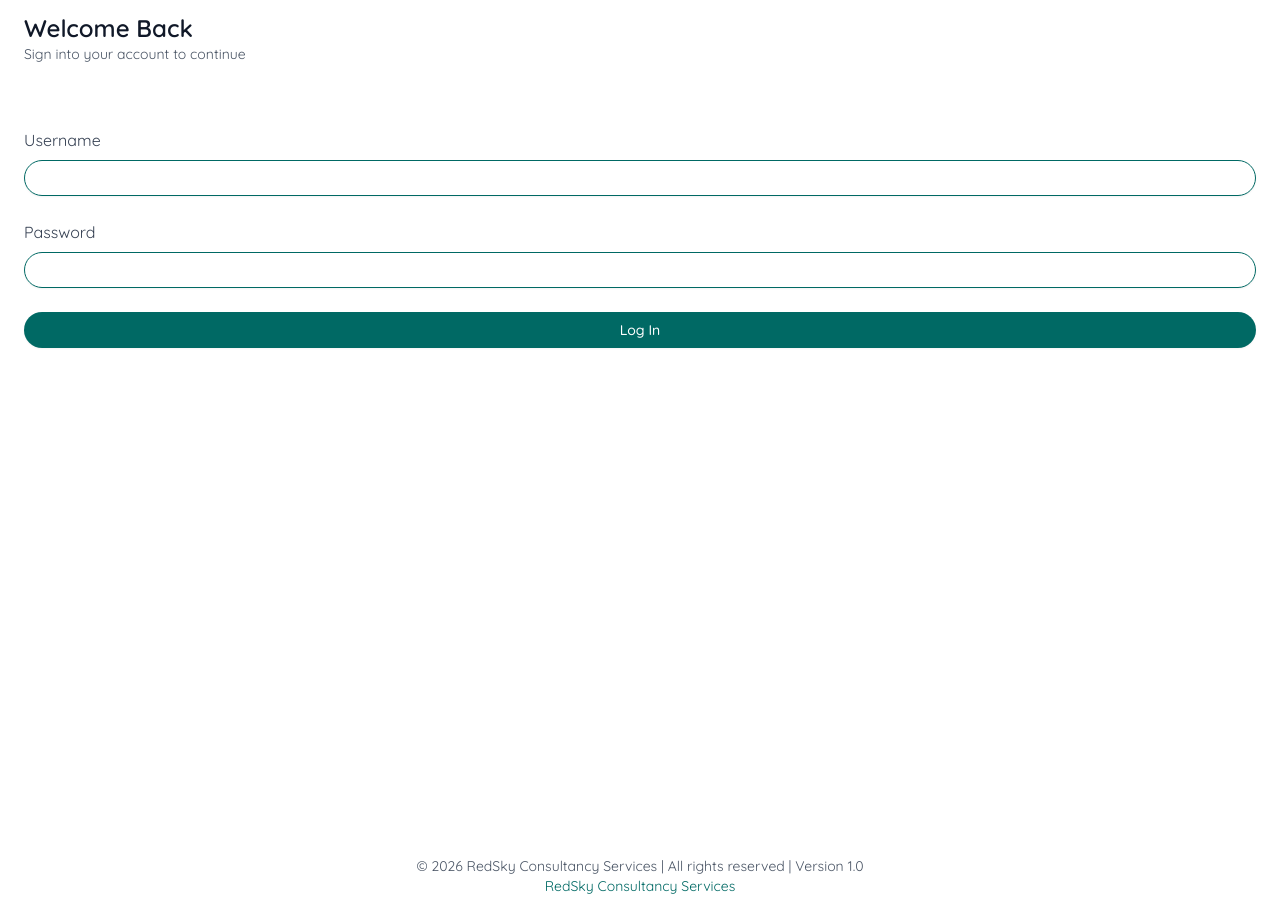
it: logInForm › should display validation errors for empty fields on submit
Click the button "Log In".
click(640, 330)  # box 24,312 -> 1256,348
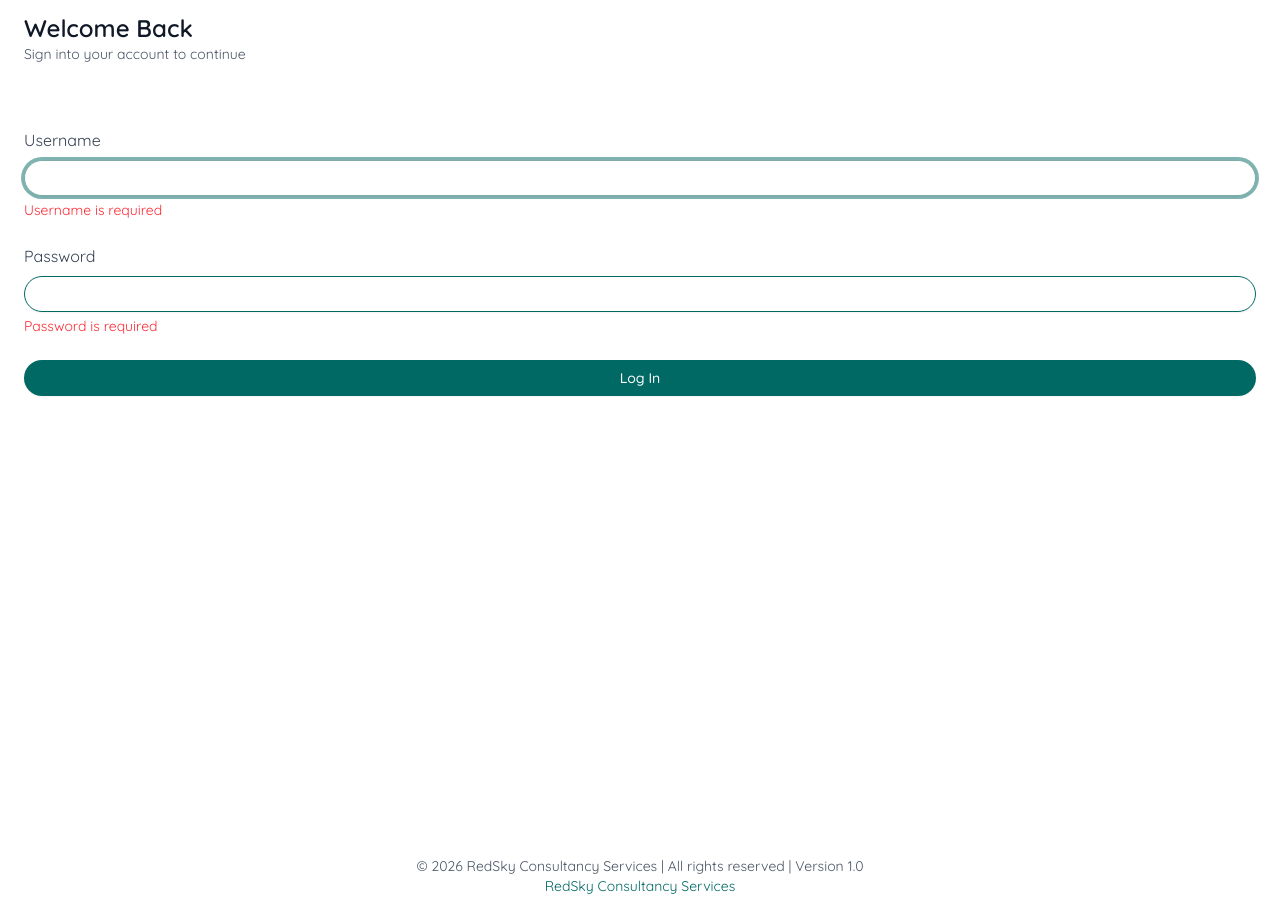
Now the text "Username is required" is shown, box 24,201 -> 162,219
Now the text "Password is required" is shown, box 24,317 -> 158,335
